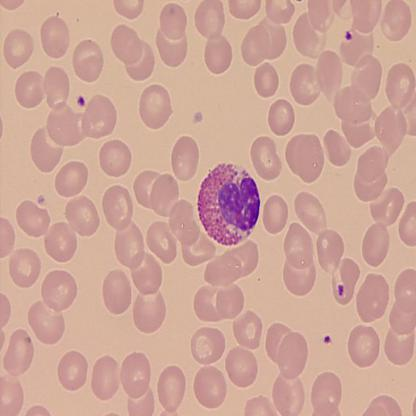Eosinophil: (195, 159, 260, 246)
